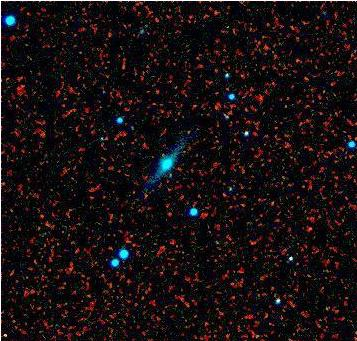star: (0, 319, 21, 341)
